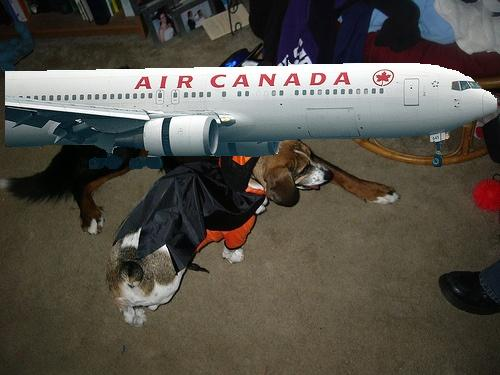tampered: (6, 61, 497, 169)
